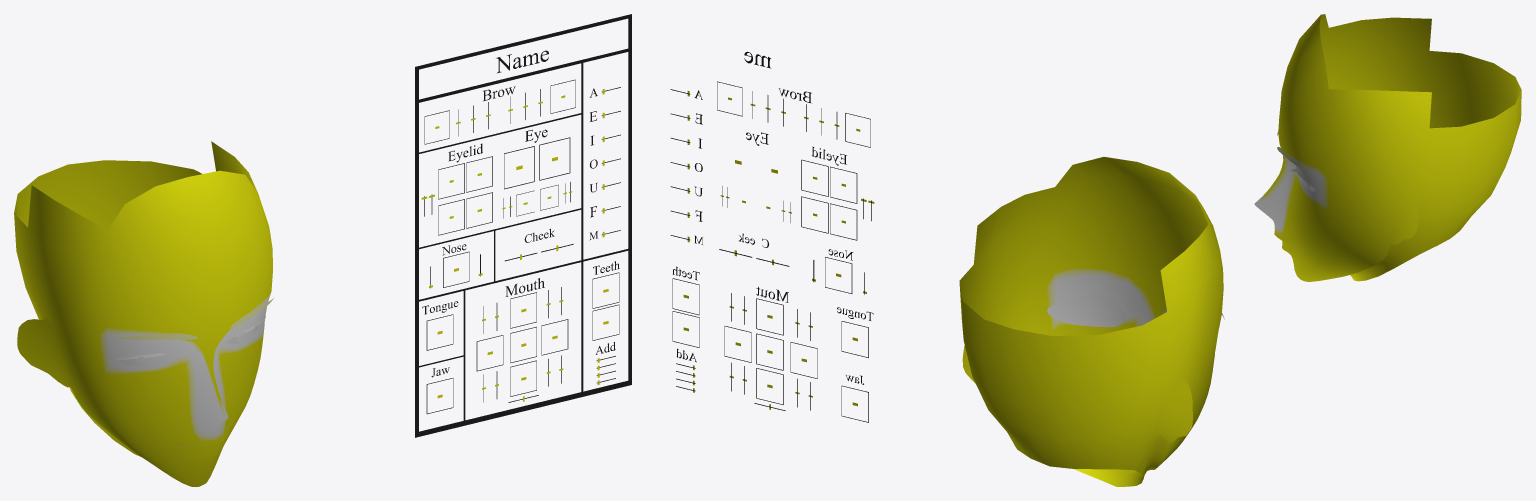
The model's file is Facial_tesst4.fbx.
3 views of the same model, side by side, from view 1: azimuth 30°, elevation 25°; view 2: azimuth 150°, elevation 25°; view 3: azimuth 270°, elevation 25° (orthographic). The views are drawn at different scales.
Visible parts, largest first — view 1: head_base, facial_facialControl_control_base; view 2: head_base; view 3: head_base.
Boxes of the visible parts, <box> form: head_base: <box>14,141,274,486</box>; facial_facialControl_control_base: <box>415,14,631,437</box>; head_base: <box>959,157,1224,486</box>; head_base: <box>1254,14,1521,281</box>.
Size of the model in its own units: 37.46 by 23.36 by 18.22.
